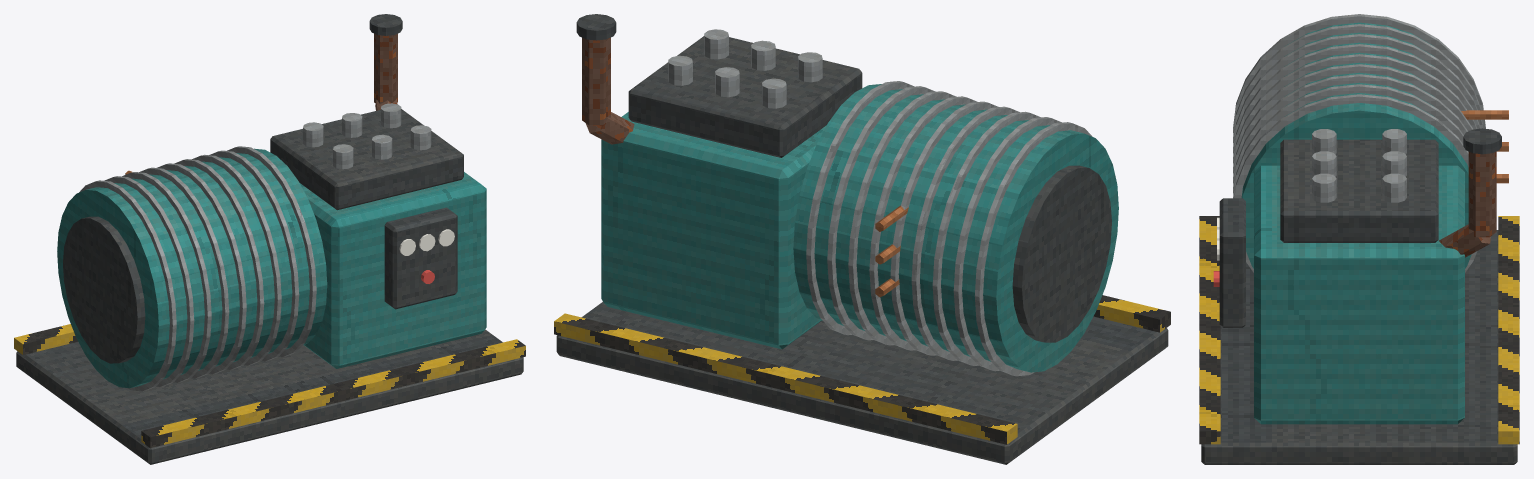
Rendered from generator.glb.
The picture shows the model from 3 angles, left to right: view 1: azimuth 30°, elevation 25°; view 2: azimuth 150°, elevation 25°; view 3: azimuth 270°, elevation 25°; orthographic projection. The views are drawn at different scales.
Visible parts, largest first — view 1: body; view 2: body; view 3: body.
Part boxes in pixels (left/top/right/bottom): body: left=14, top=14, right=525, bottom=464; body: left=554, top=14, right=1170, bottom=464; body: left=1199, top=14, right=1519, bottom=464.
Size of the model in its own units: 2.9 by 2 by 1.82.
8 materials, 6 textured.
